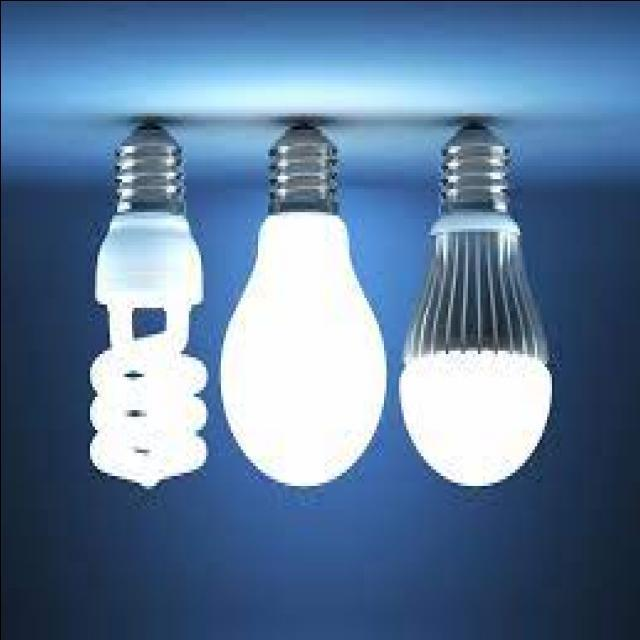light_bulb: (220, 105, 392, 499), (394, 104, 554, 503), (86, 115, 210, 501)
